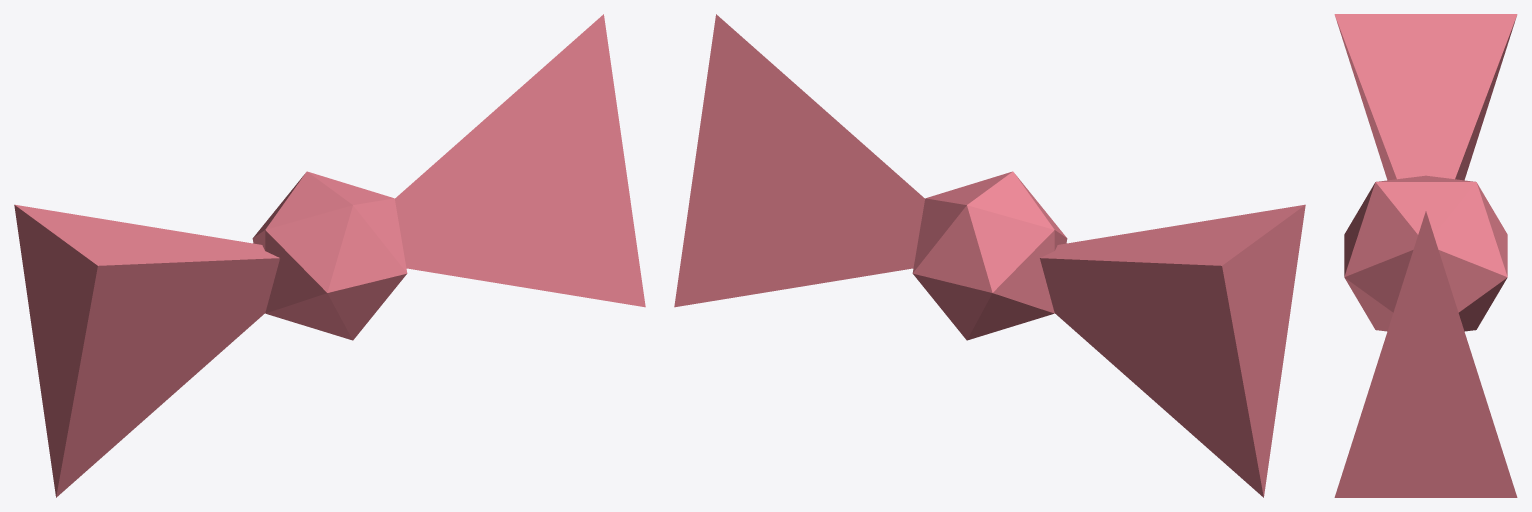
The model's file is bow.glb.
The picture shows the model from 3 angles, left to right: view 1: azimuth 30°, elevation 25°; view 2: azimuth 150°, elevation 25°; view 3: azimuth 270°, elevation 25°; orthographic projection. The views are drawn at different scales.
Visible parts, largest first — view 1: Bow; view 2: Bow; view 3: Bow.
Boxes of the visible parts, x1,y1,x2,y2 form: Bow: (14,14,645,497); Bow: (674,14,1305,497); Bow: (1334,14,1517,497).
Bounding box in the file's own units: 0.36 × 0.22 × 0.0953.
